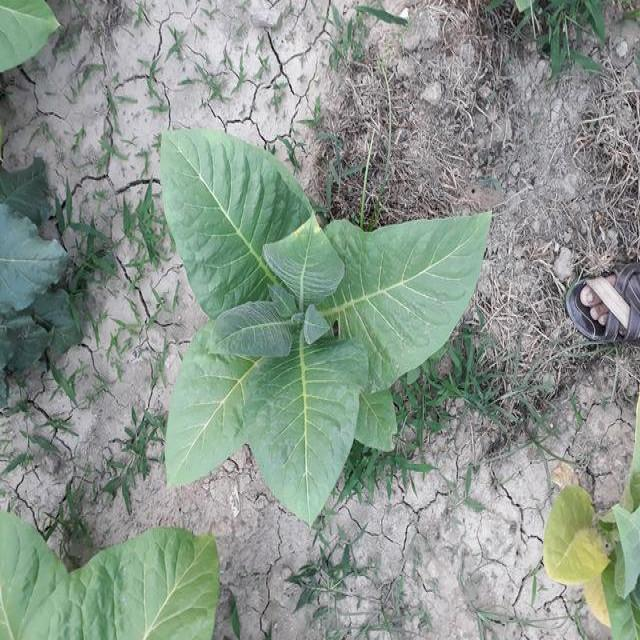crop: (157, 132, 494, 502), (0, 512, 213, 640), (544, 436, 640, 640), (0, 157, 71, 376), (4, 0, 52, 76)
